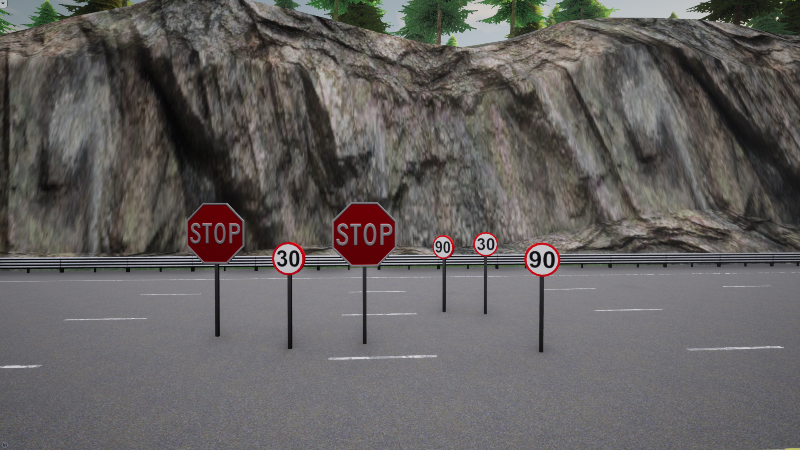fast: (524, 243, 560, 277), (432, 235, 455, 259)
slow: (271, 241, 306, 275), (473, 231, 499, 257)
stop: (331, 201, 397, 267), (185, 201, 247, 266)
